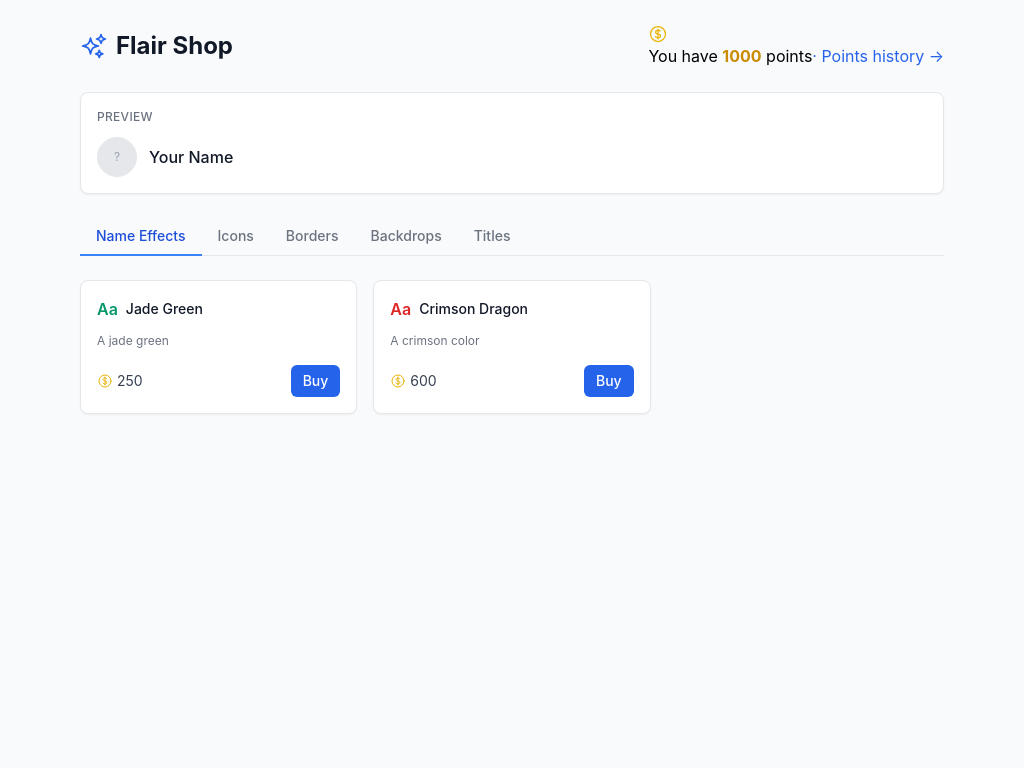
Scenario: Shop page › purchase flow › clicking Buy asks for confirmation naming the item, its cost and the resulting balance
Step 1. Click the button "Buy" next to "250" → (316, 381), box [291,365,340,397]
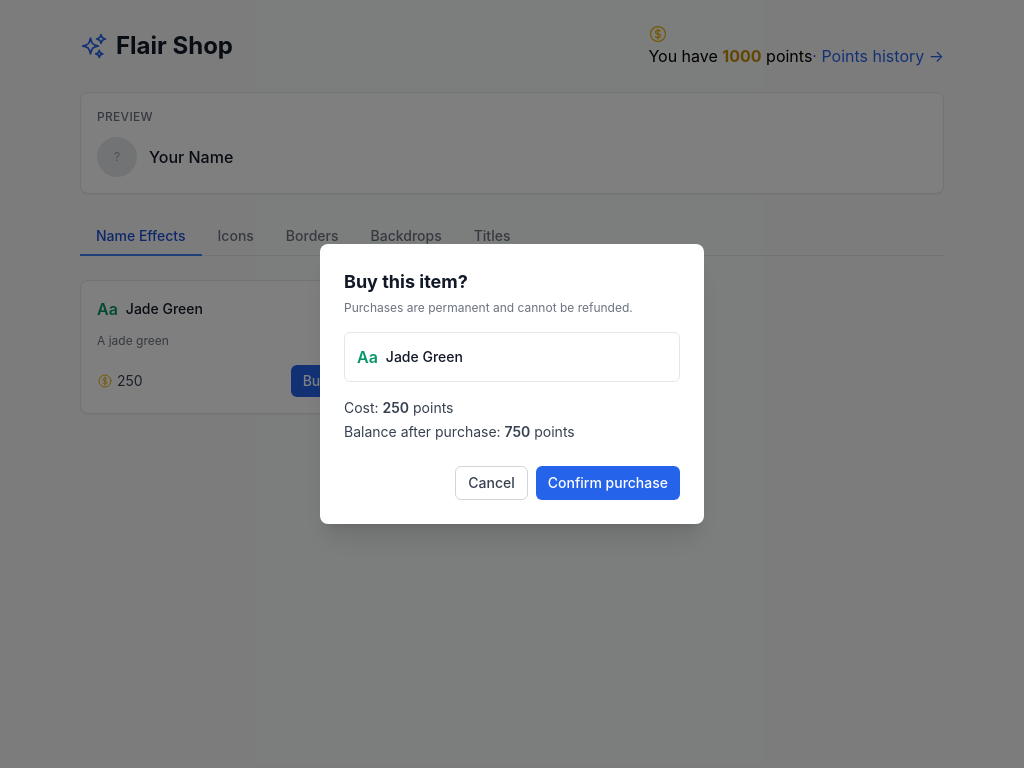
Check: the text "Jade Green" is shown, box [386,347,463,367]
Check: the text "Cost: 250 points" is shown, box [344,399,454,416]
Check: the text "Balance after purchase: 750 points" is shown, box [344,423,575,440]
